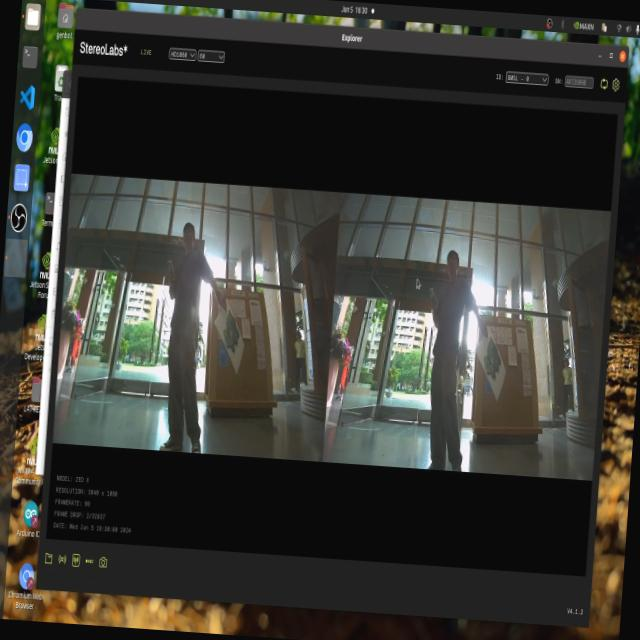green: (476, 330, 502, 384), (218, 312, 242, 369)
